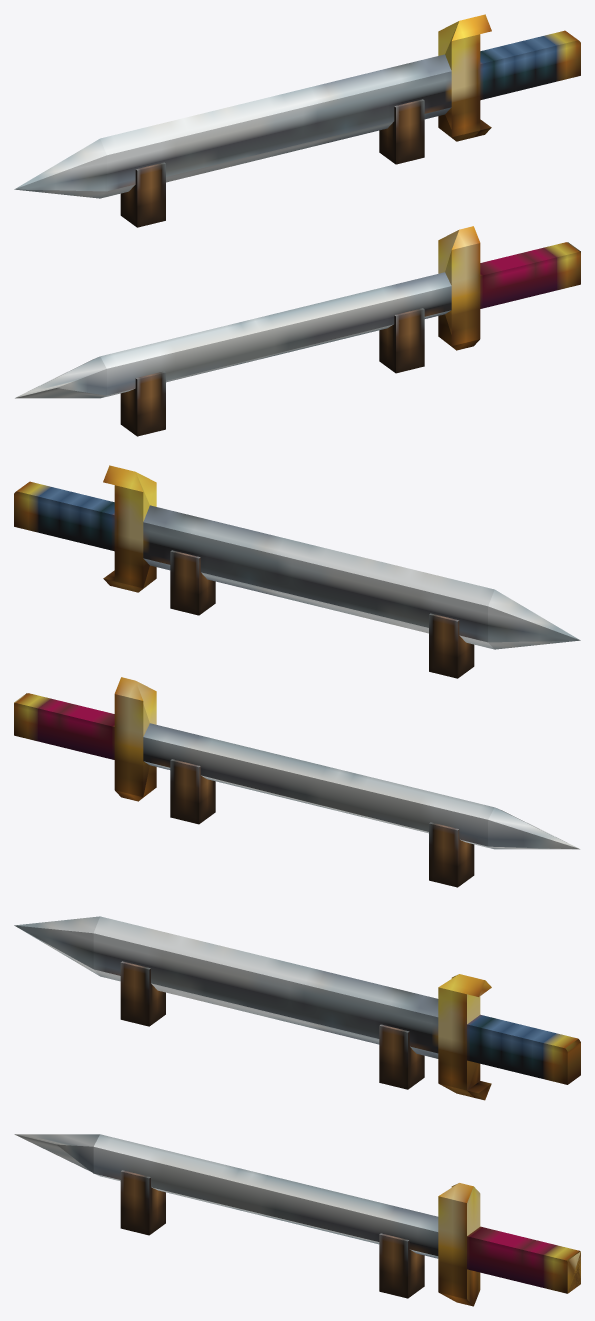
Rendered from Inside_Poly_Wall_Deco_01.obj.
3 views of the same model, one above another, from view 1: azimuth 30°, elevation 25°; view 2: azimuth 150°, elevation 25°; view 3: azimuth 330°, elevation 25° (orthographic).
Visible parts, largest first — view 1: Cube.002_Cube.005, Cube_Cube.003, Cube.001_Cube.004, Cube.003_Cube.006; view 2: Cube.002_Cube.005, Cube_Cube.003, Cube.001_Cube.004, Cube.003_Cube.006; view 3: Cube.002_Cube.005, Cube_Cube.003, Cube.001_Cube.004, Cube.003_Cube.006.
Boxes of the visible parts, x1,y1,x2,y2 form: Cube.002_Cube.005: [14, 14, 580, 198]; Cube_Cube.003: [15, 226, 580, 398]; Cube.001_Cube.004: [120, 308, 424, 436]; Cube.003_Cube.006: [120, 99, 424, 227]; Cube.002_Cube.005: [14, 465, 580, 649]; Cube_Cube.003: [14, 677, 579, 849]; Cube.001_Cube.004: [170, 759, 474, 887]; Cube.003_Cube.006: [170, 550, 474, 678]; Cube.002_Cube.005: [14, 916, 580, 1100]; Cube_Cube.003: [14, 1134, 580, 1306]; Cube.001_Cube.004: [120, 1170, 424, 1298]; Cube.003_Cube.006: [120, 961, 424, 1089].
Bounding box in the file's own units: 1.09 × 0.6112 × 0.0558.
Materials: 1 (1 with a texture image).
